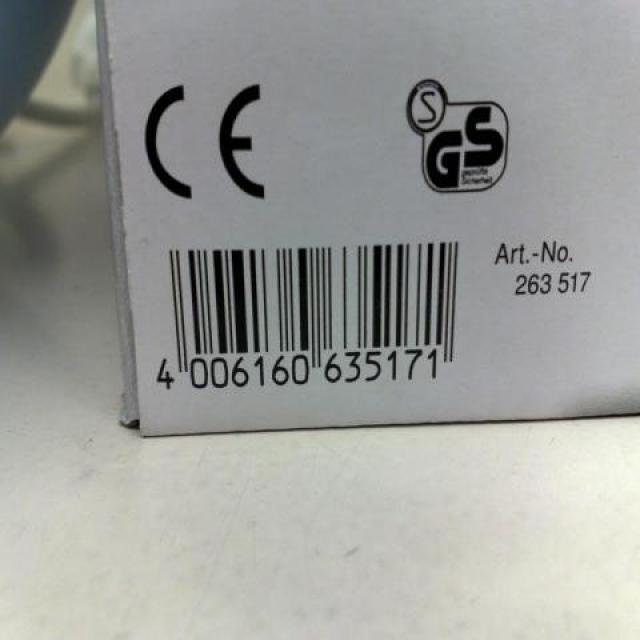Barcode: (146, 223, 475, 408)
